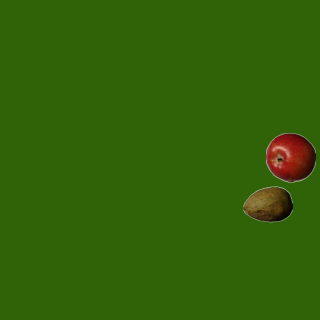Apple Braeburn: (265, 132, 315, 182)
Papaya: (242, 179, 292, 229)
